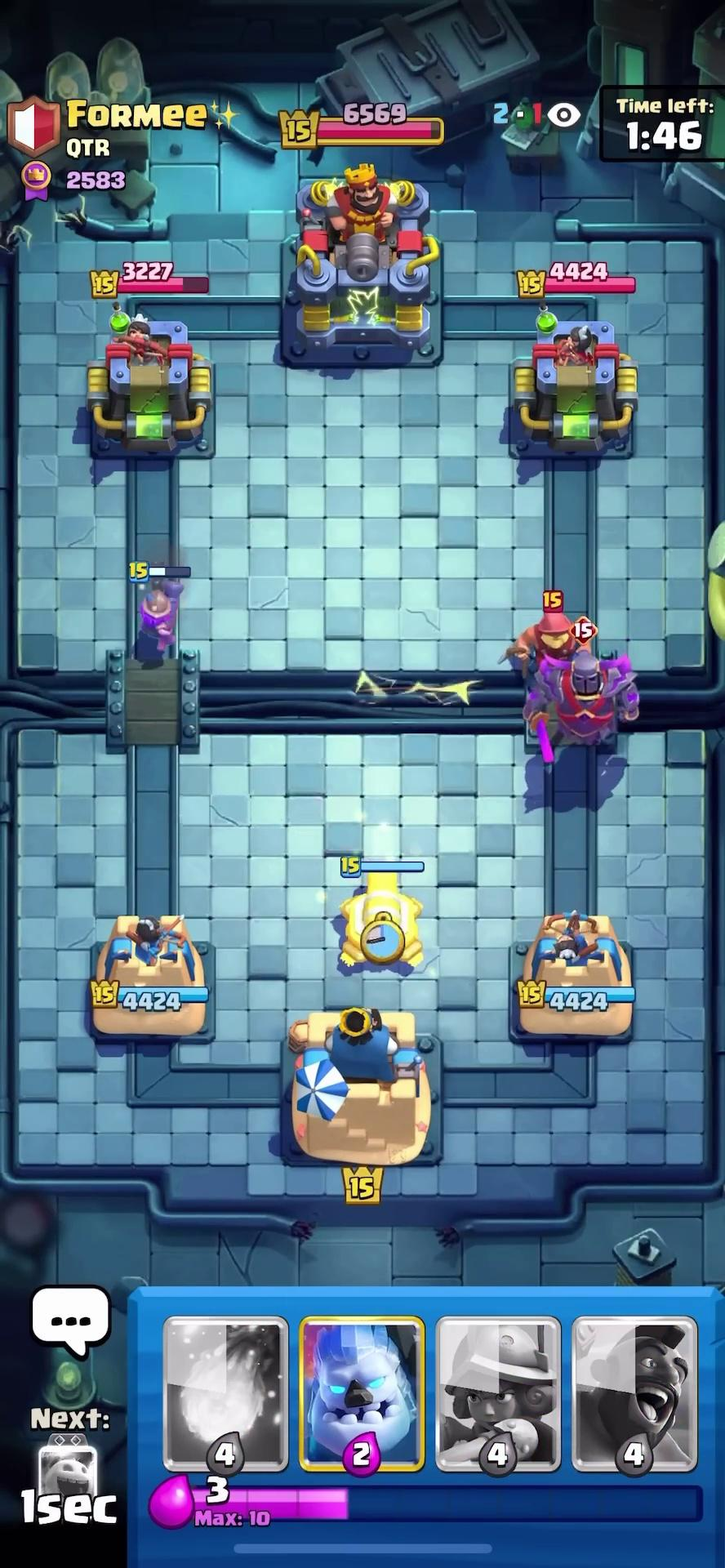cannon: (333, 853, 429, 976)
musketeer: (116, 551, 198, 670)
